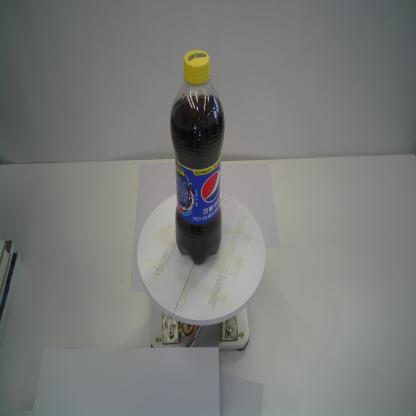Drink: (167, 46, 226, 266)
